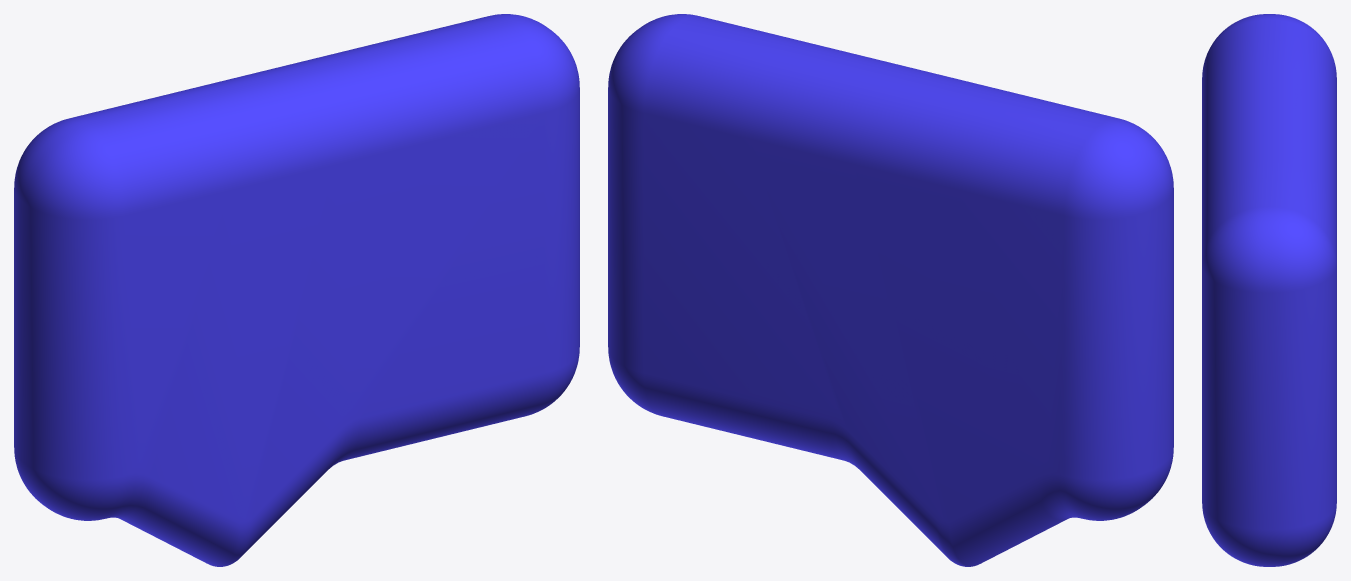
File: message.glb
3 views of the same model, side by side, from view 1: azimuth 30°, elevation 25°; view 2: azimuth 150°, elevation 25°; view 3: azimuth 270°, elevation 25° (orthographic). The views are drawn at different scales.
Parts seen in each view (by area): view 1: Cube.019; view 2: Cube.019; view 3: Cube.019.
Part boxes in pixels (left/top/right/bottom): Cube.019: left=14, top=14, right=579, bottom=566; Cube.019: left=608, top=14, right=1173, bottom=566; Cube.019: left=1202, top=14, right=1336, bottom=566.
Bounding box in the file's own units: 2.56 × 2.09 × 0.6028.
